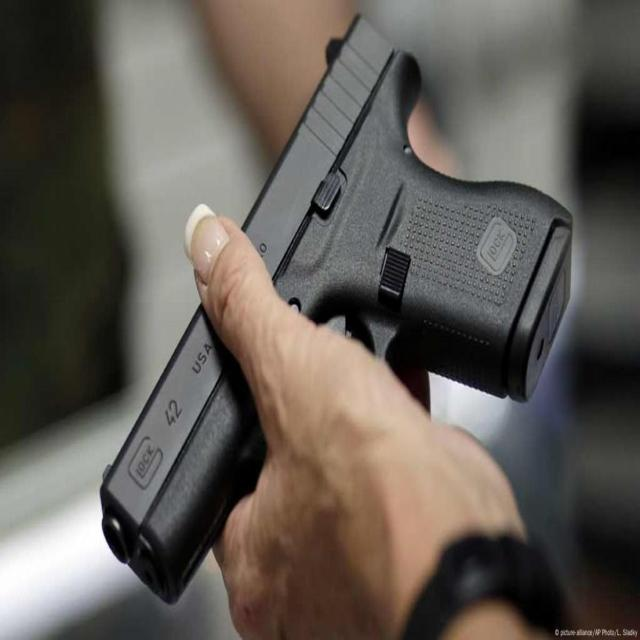gun: (242, 16, 574, 409), (99, 305, 267, 609)
